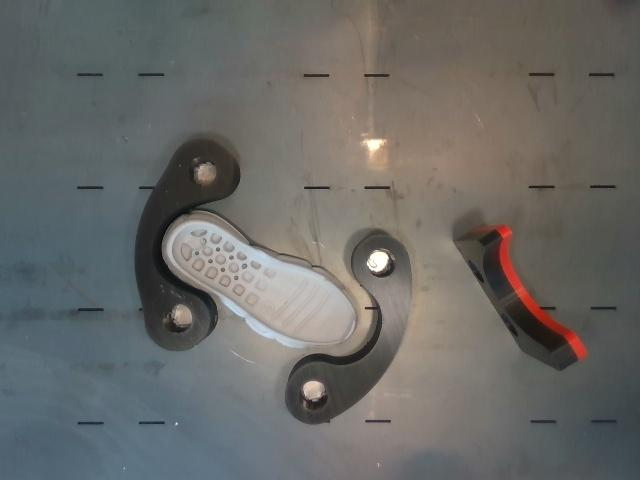shoes: (169, 222, 355, 343)
